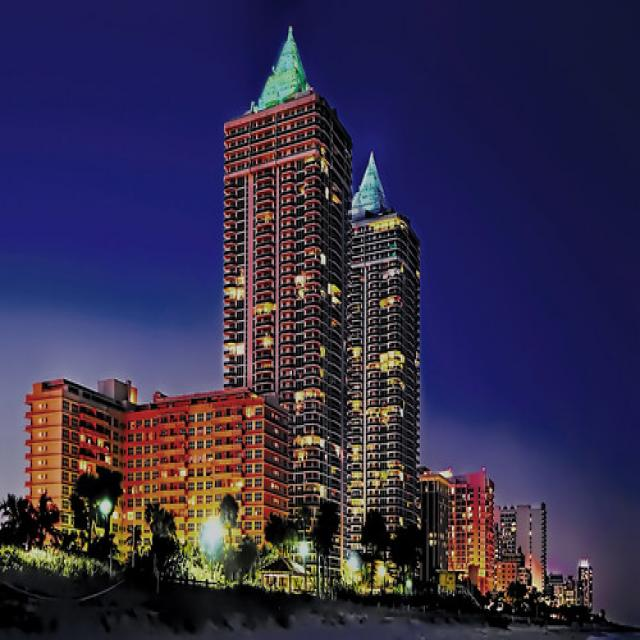Normal_building: (218, 52, 356, 588), (340, 212, 424, 596)
